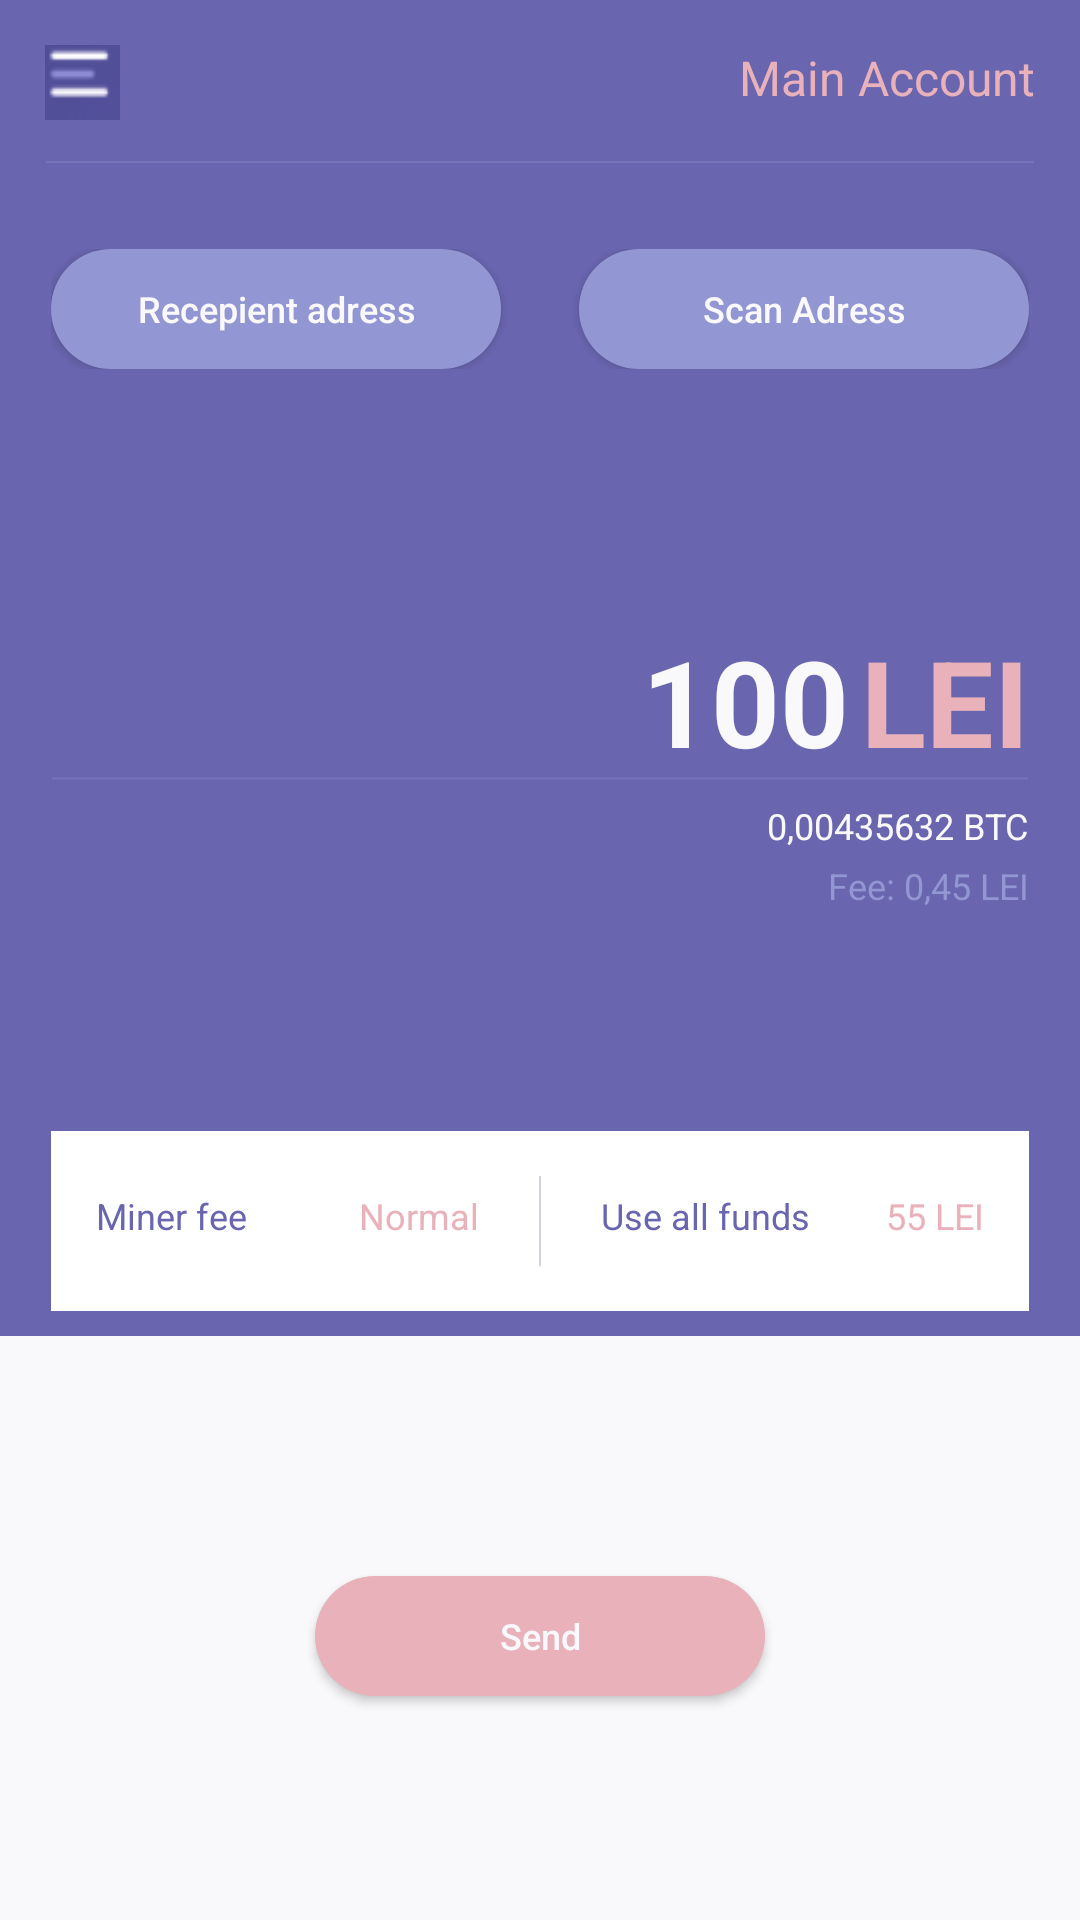

Icon bounding boxes for this 1080×1920 phone screenshot, format bbox=(x1, y1, x2, y2):
drawer: bbox=(45, 45, 120, 120)
